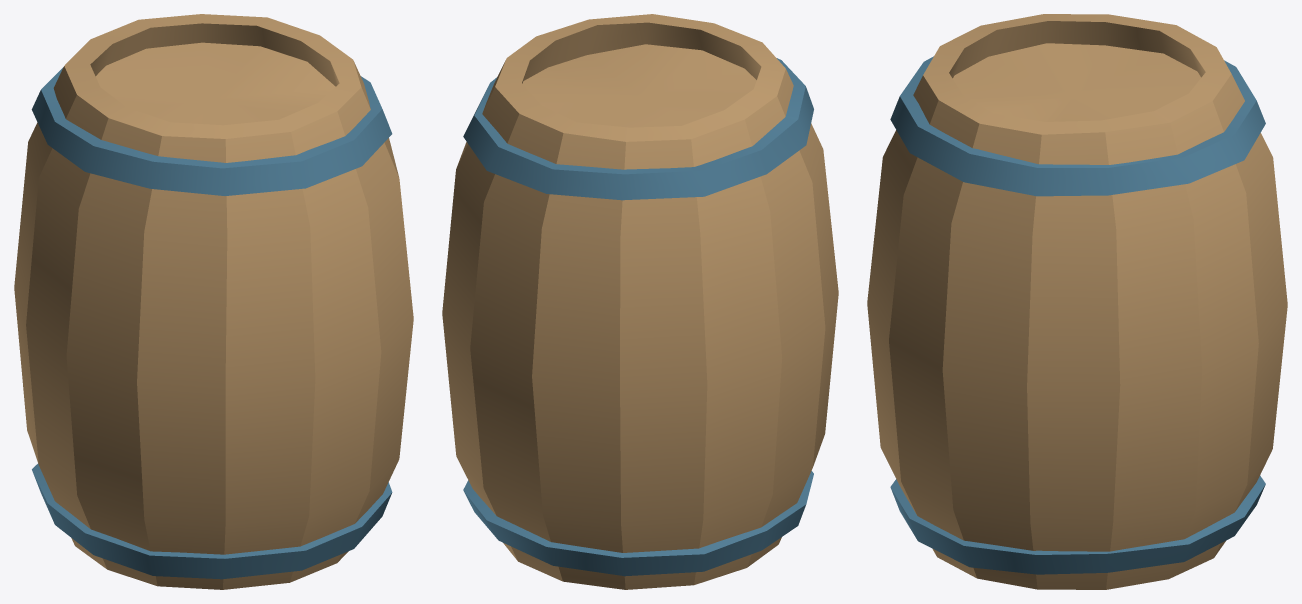
File: Barrel.fbx
3 views of the same model, side by side, from view 1: azimuth 30°, elevation 25°; view 2: azimuth 150°, elevation 25°; view 3: azimuth 270°, elevation 25° (orthographic). The views are drawn at different scales.
Parts seen in each view (by area): view 1: Barrel; view 2: Barrel; view 3: Barrel.
Part boxes in pixels (left/top/right/bottom): Barrel: left=14, top=14, right=413, bottom=589; Barrel: left=442, top=14, right=838, bottom=589; Barrel: left=867, top=14, right=1287, bottom=589.
Bounding box in the file's own units: 2.06 × 2.7 × 2.22.
